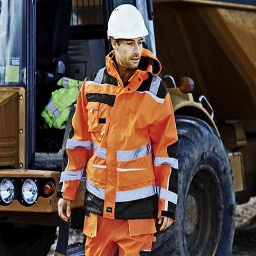helmet: (110, 2, 150, 42)
person: (61, 1, 168, 256)
vest: (81, 71, 174, 209)
